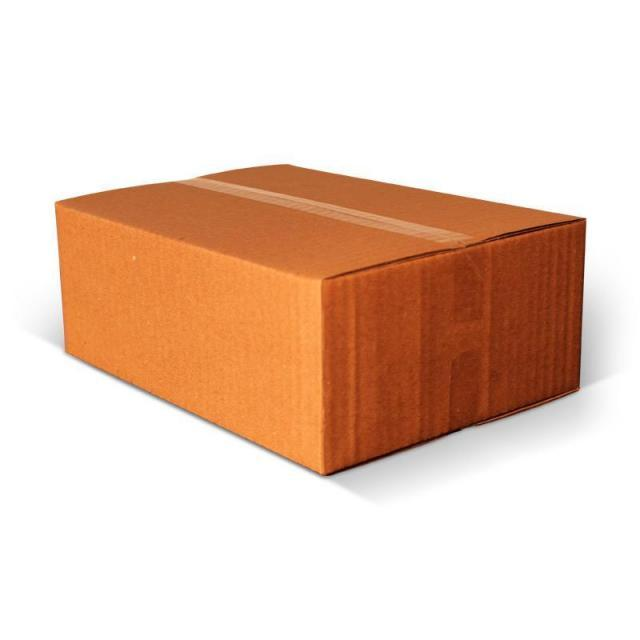box: (52, 164, 586, 478)
